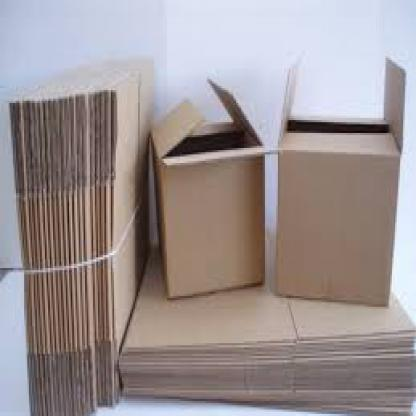CARDBOARD: (119, 242, 414, 414), (8, 56, 149, 414), (270, 52, 405, 304), (148, 75, 263, 296)
